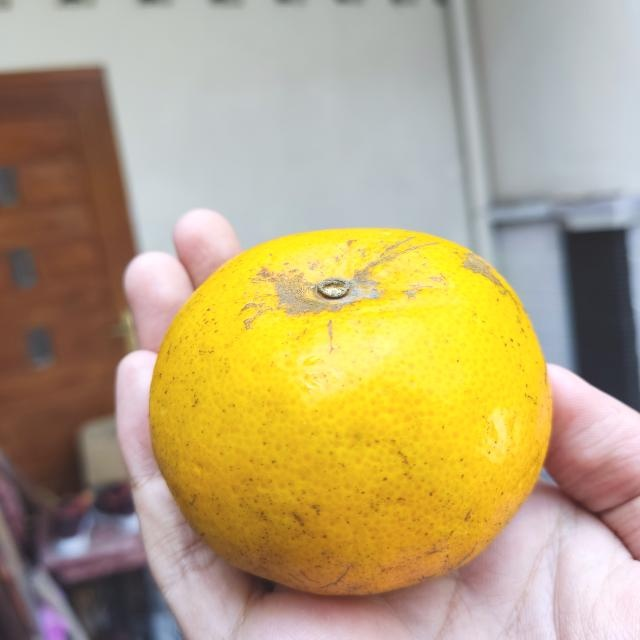agrume: (150, 223, 558, 598)
